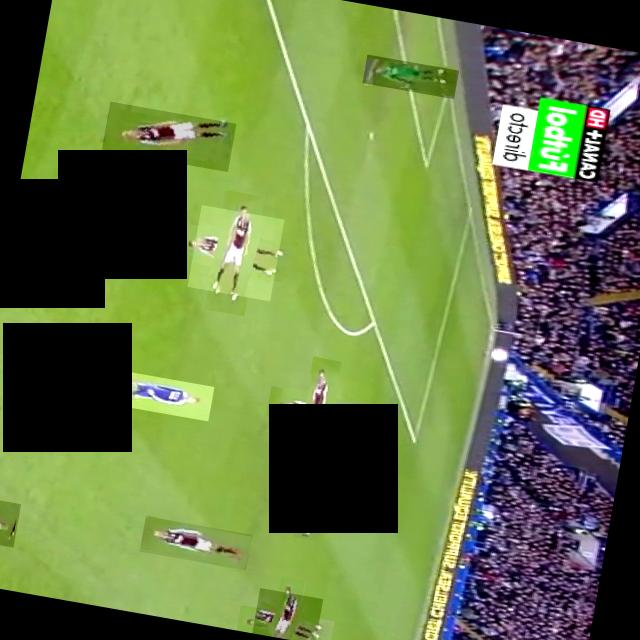goalkeeper: (362, 53, 459, 98)
soccer-player: (186, 203, 284, 300), (101, 100, 236, 170), (92, 365, 214, 420), (279, 368, 358, 448), (139, 515, 252, 569), (277, 457, 349, 528), (285, 442, 377, 488), (251, 587, 322, 640), (0, 493, 21, 546)
